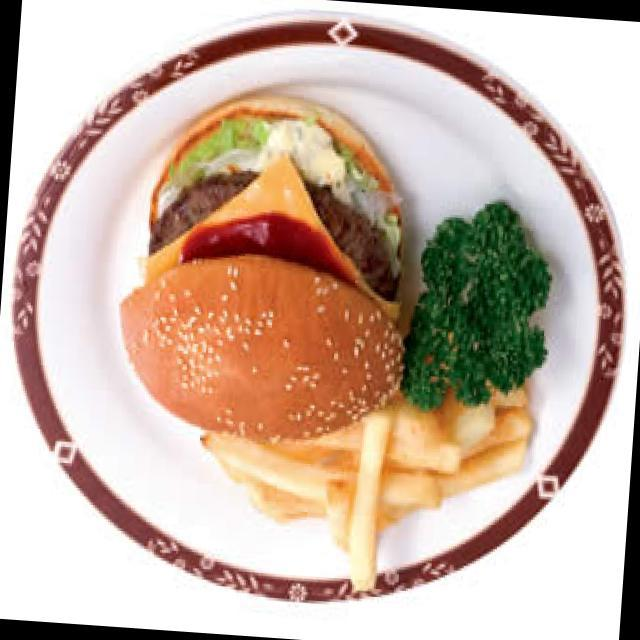French Fries: (206, 387, 528, 598)
Hamburger: (106, 89, 418, 452)
